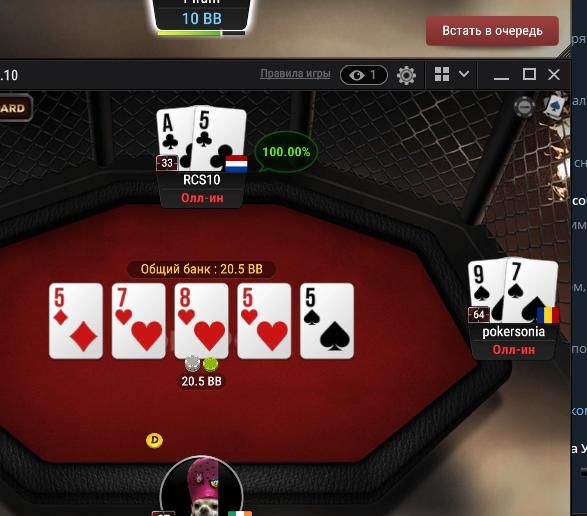5c: (192, 105, 246, 172)
5d: (49, 285, 104, 360)
5h: (238, 283, 291, 357)
5s: (301, 284, 353, 358)
7h: (113, 283, 165, 358)
7s: (505, 257, 557, 323)
8h: (175, 284, 229, 360)
9s: (468, 261, 505, 324)
Ac: (155, 108, 193, 173)
